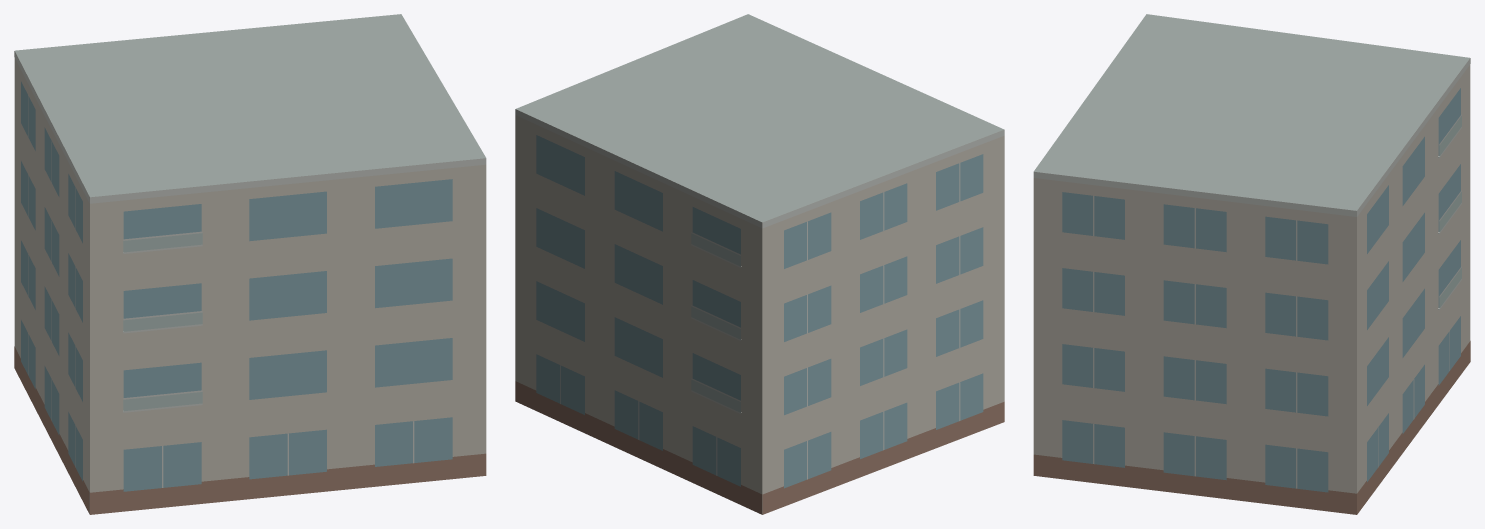
File: survey-upis-33046341.glb
3 views of the same model, side by side, from view 1: azimuth 30°, elevation 25°; view 2: azimuth 150°, elevation 25°; view 3: azimuth 270°, elevation 25° (orthographic). The views are drawn at different scales.
Parts seen in each view (by area): view 1: survey-upis-33046341.tmp; view 2: survey-upis-33046341.tmp; view 3: survey-upis-33046341.tmp.
Boxes of the visible parts, x1,y1,x2,y2 form: survey-upis-33046341.tmp: (14,14,486,514); survey-upis-33046341.tmp: (515,14,1004,514); survey-upis-33046341.tmp: (1033,14,1470,514).
Bounding box in the file's own units: 16.62 × 11.96 × 15.59.
